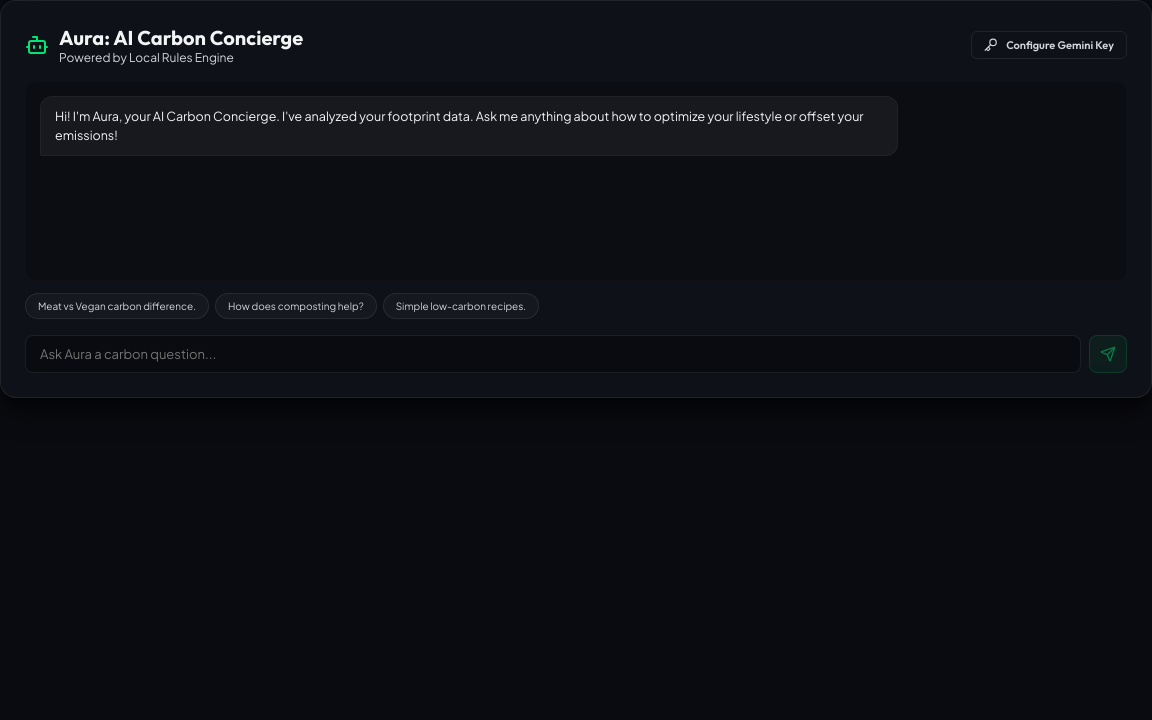
InsightsPanel Component Tests › configures API key inputs
Click the button "Configure Gemini Key".
click(1049, 45)  # box [971,31,1127,59]
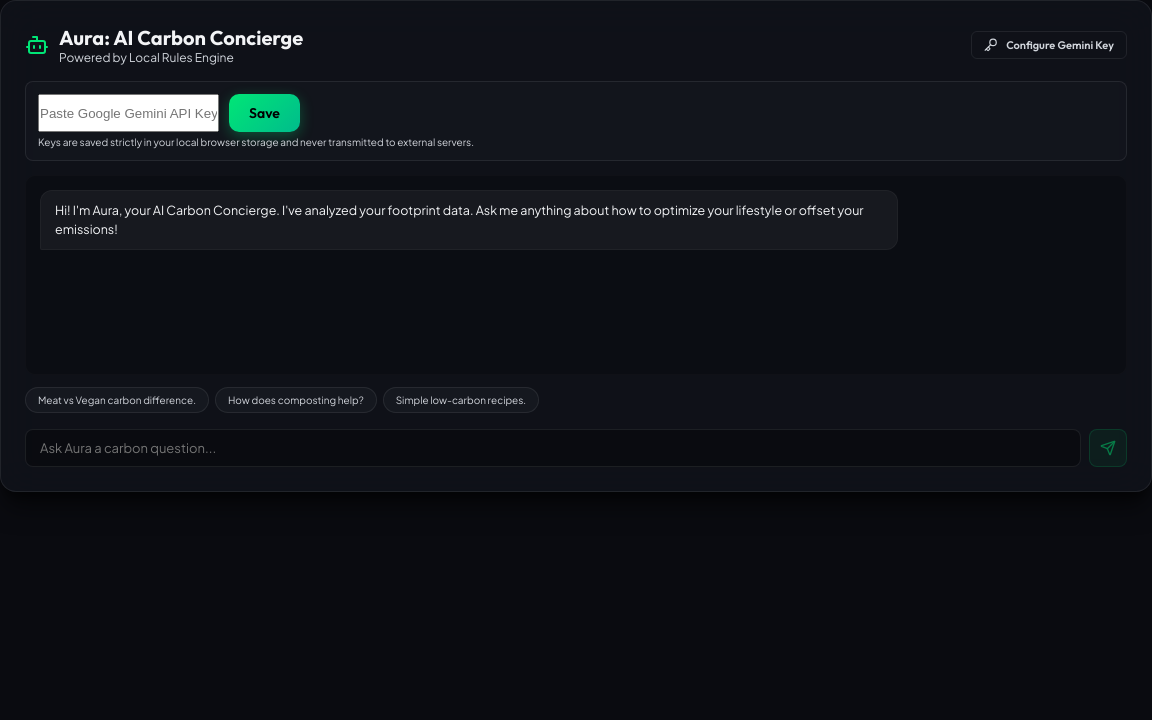
Now the password field with placeholder "Paste Google Gemini API Key" is shown, box [38,94,219,132]
